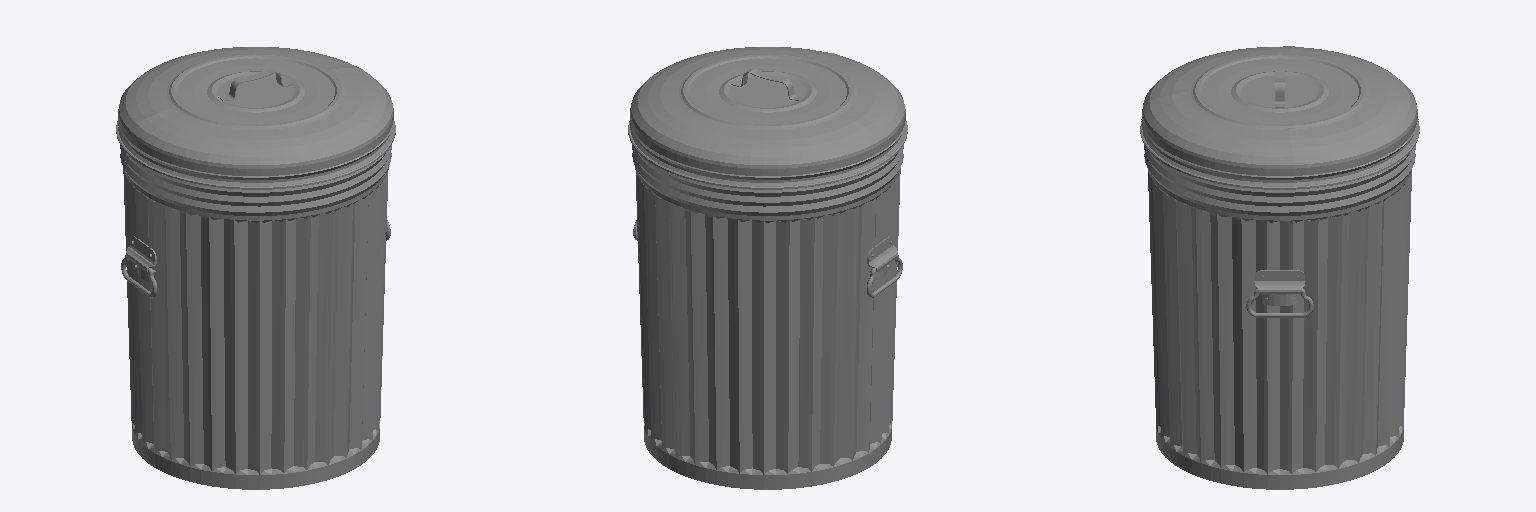
Rendered from trashcan_lod0.obj.
3 views of the same model, side by side, from view 1: azimuth 30°, elevation 25°; view 2: azimuth 150°, elevation 25°; view 3: azimuth 270°, elevation 25° (orthographic).
Visible parts, largest first — view 1: trashcan_lod0; view 2: trashcan_lod0; view 3: trashcan_lod0.
Boxes of the visible parts, x1=… form: trashcan_lod0: x1=116, y1=47, x2=395, y2=489; trashcan_lod0: x1=628, y1=47, x2=907, y2=489; trashcan_lod0: x1=1140, y1=46, x2=1419, y2=489.
Bounding box in the file's own units: 45.96 × 65.79 × 45.96.